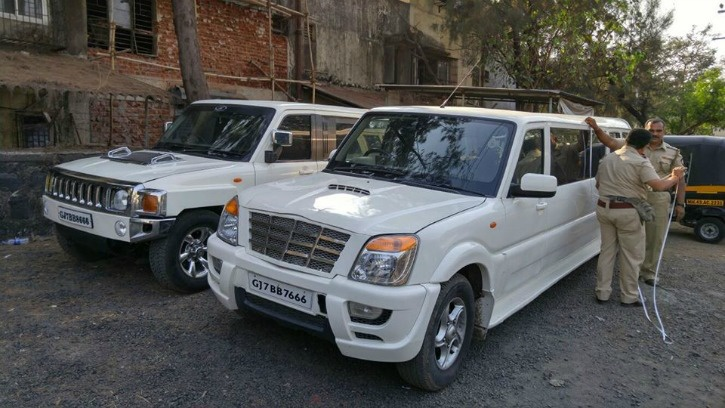plate: (240, 263, 319, 322)
